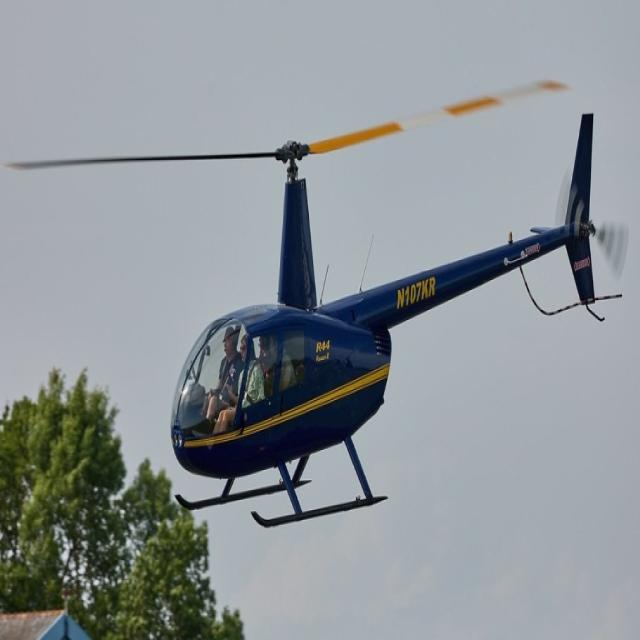CIV_HELO: (167, 110, 604, 530)
